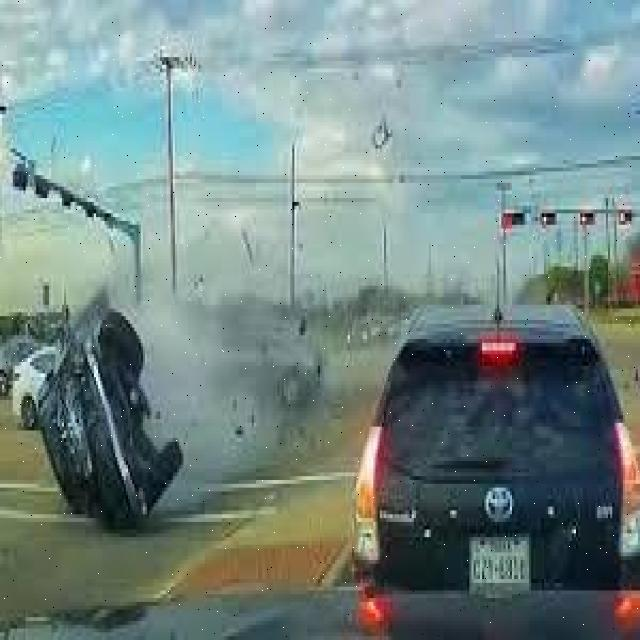severe: (31, 292, 189, 532)
